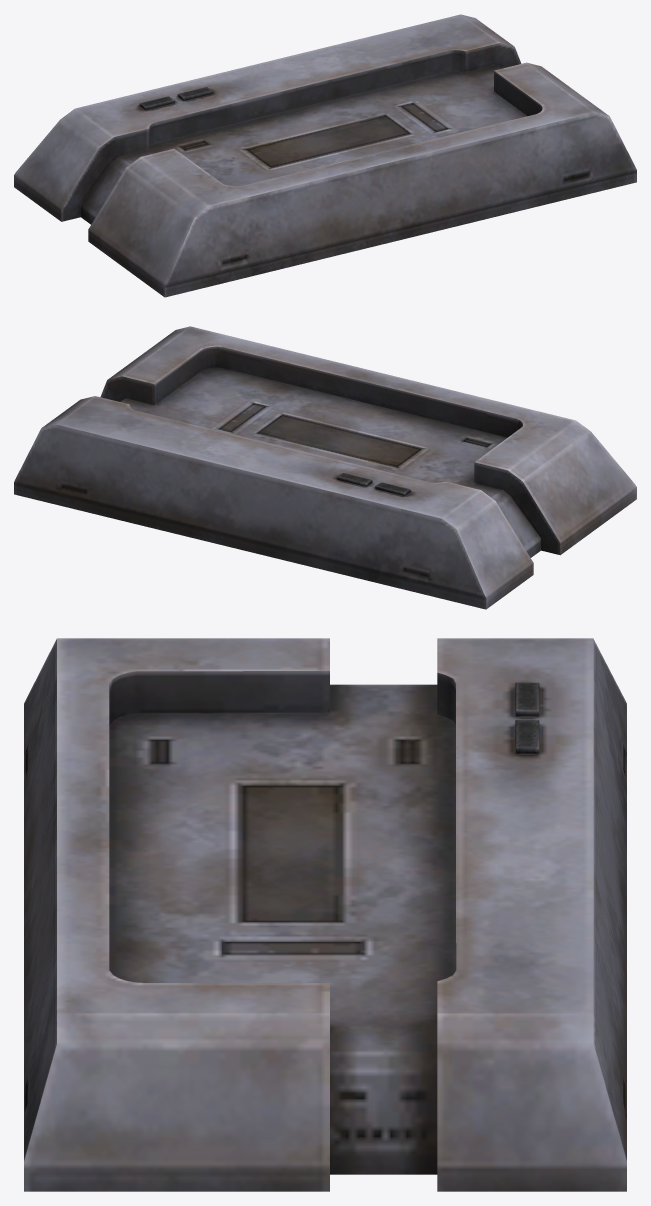
File: phone_theta_charger.DAE
3 views of the same model, one above another, from view 1: azimuth 30°, elevation 25°; view 2: azimuth 150°, elevation 25°; view 3: azimuth 270°, elevation 25° (orthographic). The views are drawn at different scales.
Parts seen in each view (by area): view 1: phone_theta_charger; view 2: phone_theta_charger; view 3: phone_theta_charger.
Boxes of the visible parts, left/top/right/bottom form: phone_theta_charger: left=14, top=14, right=636, bottom=297; phone_theta_charger: left=14, top=326, right=636, bottom=609; phone_theta_charger: left=24, top=638, right=626, bottom=1191.
Size of the model in its own units: 0.3521 by 0.0534 by 0.1948.
